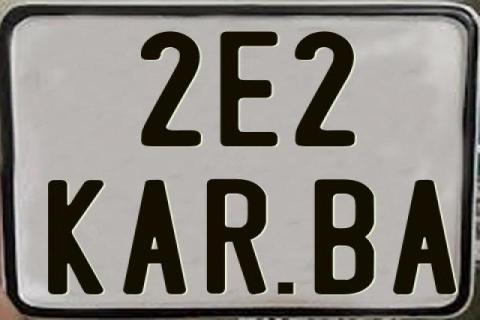0: (294, 30, 358, 150), (138, 29, 200, 145)
A: (392, 178, 459, 294), (122, 177, 186, 293)
B: (314, 177, 380, 292)
E: (217, 30, 281, 150)
K: (48, 178, 109, 296)
R: (207, 177, 267, 295)
